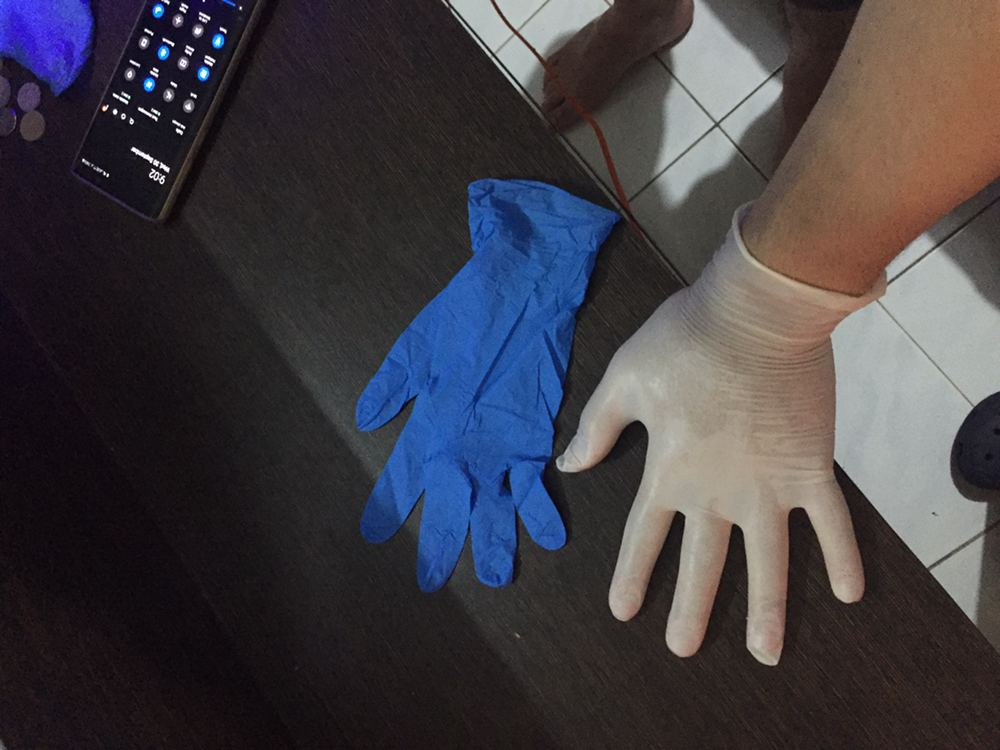glove: (349, 191, 617, 609)
